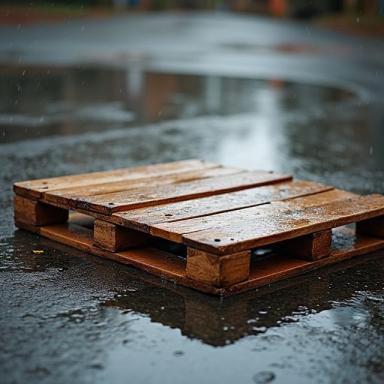pallet: (12, 158, 384, 296), (142, 232, 188, 259)
